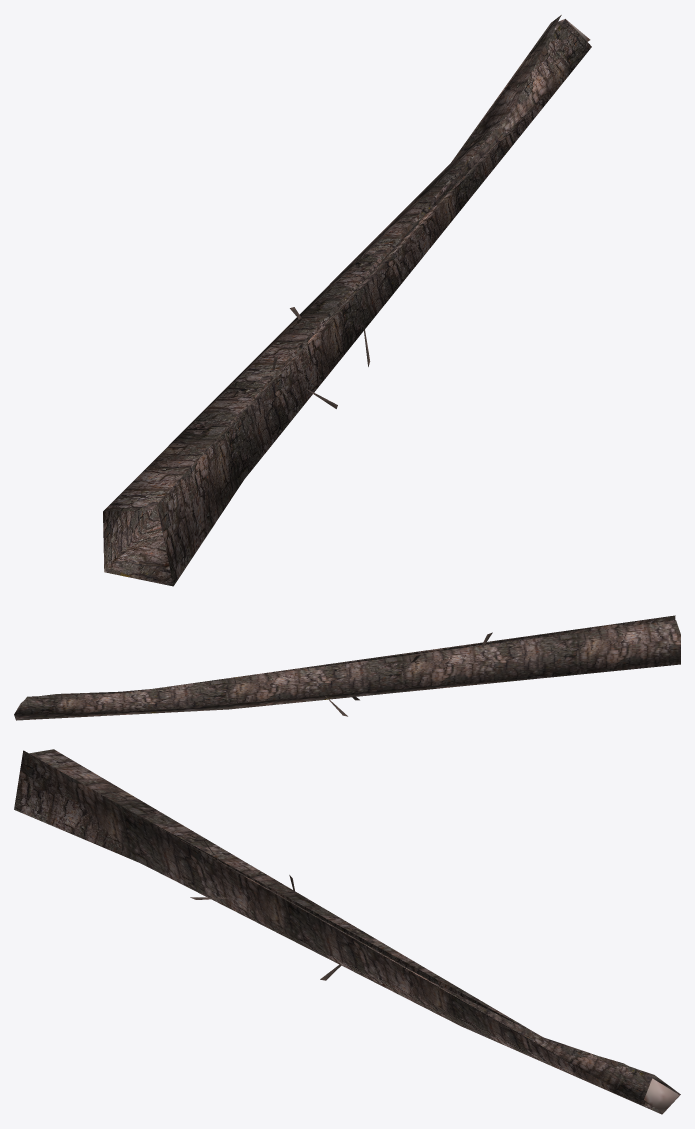
Rendered from dead_log_0_lod2.glb.
The picture shows the model from 3 angles, top to bottom: view 1: azimuth 30°, elevation 25°; view 2: azimuth 150°, elevation 25°; view 3: azimuth 270°, elevation 25°; orthographic projection. The views are drawn at different scales.
Parts seen in each view (by area): view 1: dead_log_0_lod2; view 2: dead_log_0_lod2; view 3: dead_log_0_lod2.
Part boxes in pixels (bbox=[...]): dead_log_0_lod2: bbox=[103, 15, 591, 586]; dead_log_0_lod2: bbox=[14, 615, 680, 720]; dead_log_0_lod2: bbox=[14, 749, 680, 1114].
Bounding box in the file's own units: 5.84 × 0.7321 × 5.26.
Materials: 1 (1 with a texture image).
